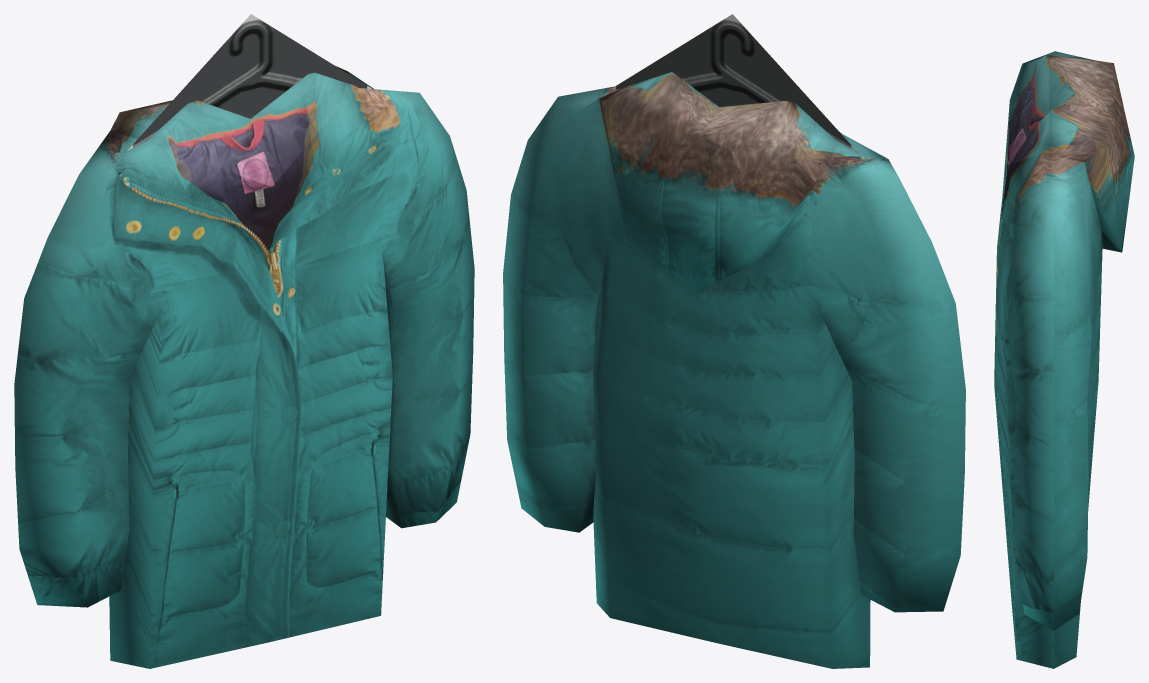
File: Sun_0677_Padded_jacket.fbx
The picture shows the model from 3 angles, left to right: view 1: azimuth 30°, elevation 25°; view 2: azimuth 150°, elevation 25°; view 3: azimuth 270°, elevation 25°; orthographic projection. The views are drawn at different scales.
Parts seen in each view (by area): view 1: Sun_0677_Padded_jacket; view 2: Sun_0677_Padded_jacket; view 3: Sun_0677_Padded_jacket.
Boxes of the visible parts, x1,y1,x2,y2 form: Sun_0677_Padded_jacket: (14,14,474,668); Sun_0677_Padded_jacket: (503,14,965,668); Sun_0677_Padded_jacket: (994,51,1134,668).
Bounding box in the file's own units: 53.88 × 68.98 × 14.84.
